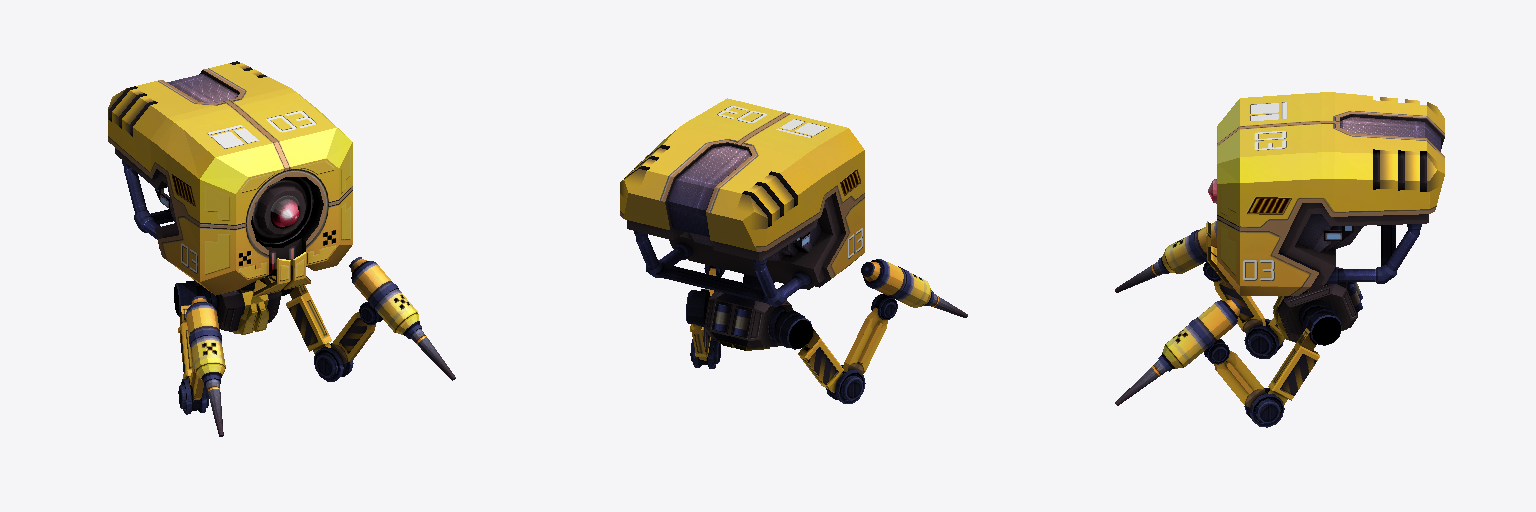
The picture shows the model from 3 angles: view 1: azimuth 30°, elevation 25°; view 2: azimuth 150°, elevation 25°; view 3: azimuth 270°, elevation 25°; orthographic projection.
Visible parts, largest first — view 1: Box001; view 2: Box001; view 3: Box001.
Part boxes in pixels (bbox=[...]): Box001: bbox=[108, 61, 455, 436]; Box001: bbox=[620, 98, 967, 403]; Box001: bbox=[1115, 92, 1444, 427].
Bounding box in the file's own units: 45.76 × 49.35 × 55.28.
Materials: 1 (1 with a texture image).